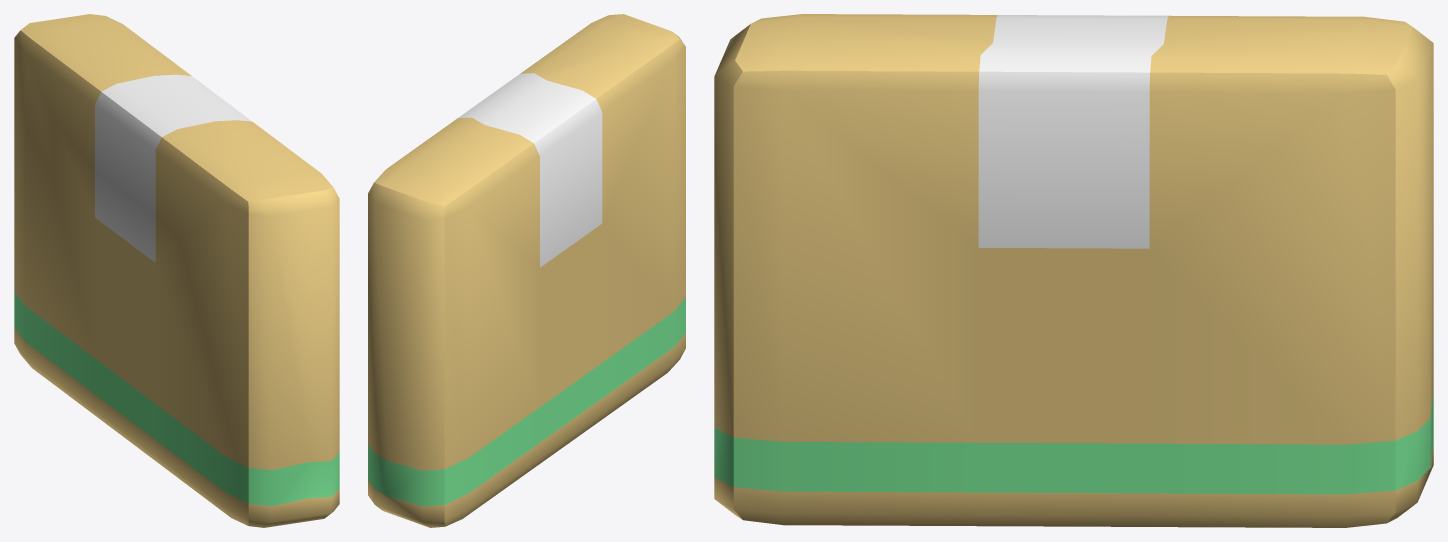
File: Props_Box_Green_05.fbx
3 views of the same model, side by side, from view 1: azimuth 30°, elevation 25°; view 2: azimuth 150°, elevation 25°; view 3: azimuth 270°, elevation 25° (orthographic). The views are drawn at different scales.
Parts seen in each view (by area): view 1: Props_Box_Green_05; view 2: Props_Box_Green_05; view 3: Props_Box_Green_05.
Part boxes in pixels (<box>): Props_Box_Green_05: <box>14,14,339,527</box>; Props_Box_Green_05: <box>368,14,685,527</box>; Props_Box_Green_05: <box>714,14,1433,527</box>.
Size of the model in its own units: 11.93 by 38.37 by 53.48.
